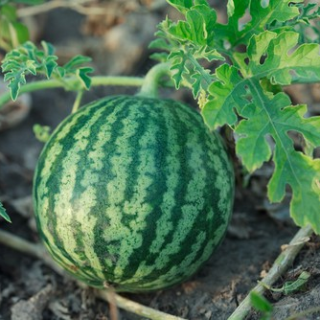dua_hau: (31, 94, 235, 290)
